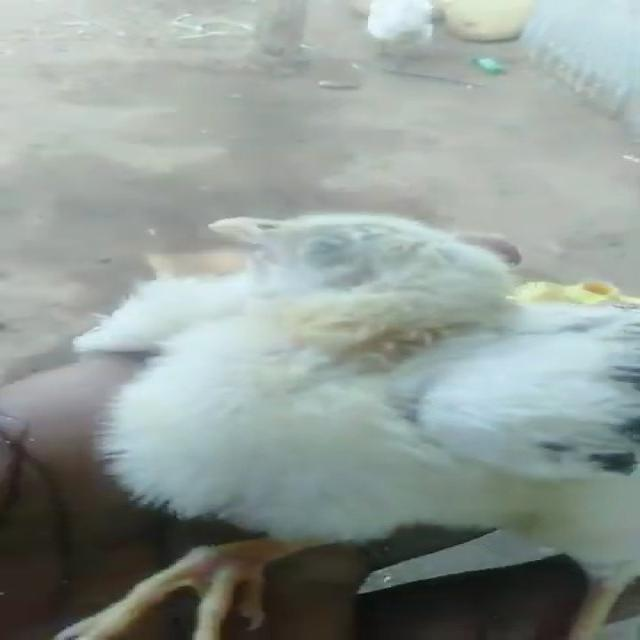newcastle: (78, 180, 640, 616)
